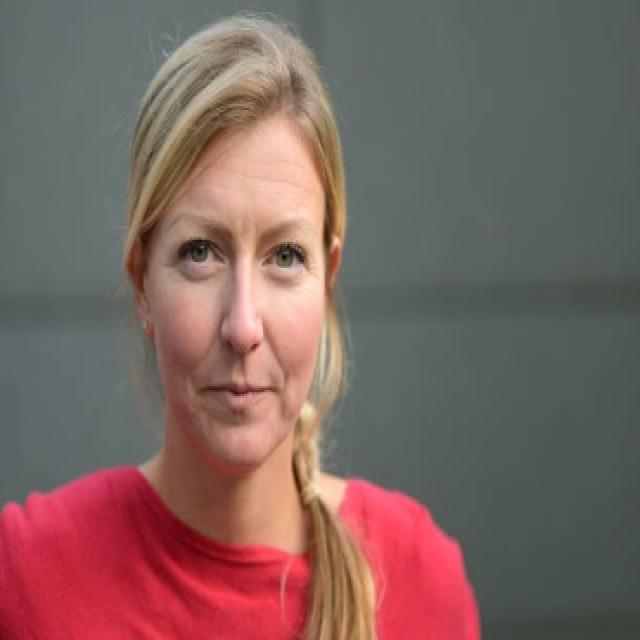adult: (5, 1, 487, 640)
